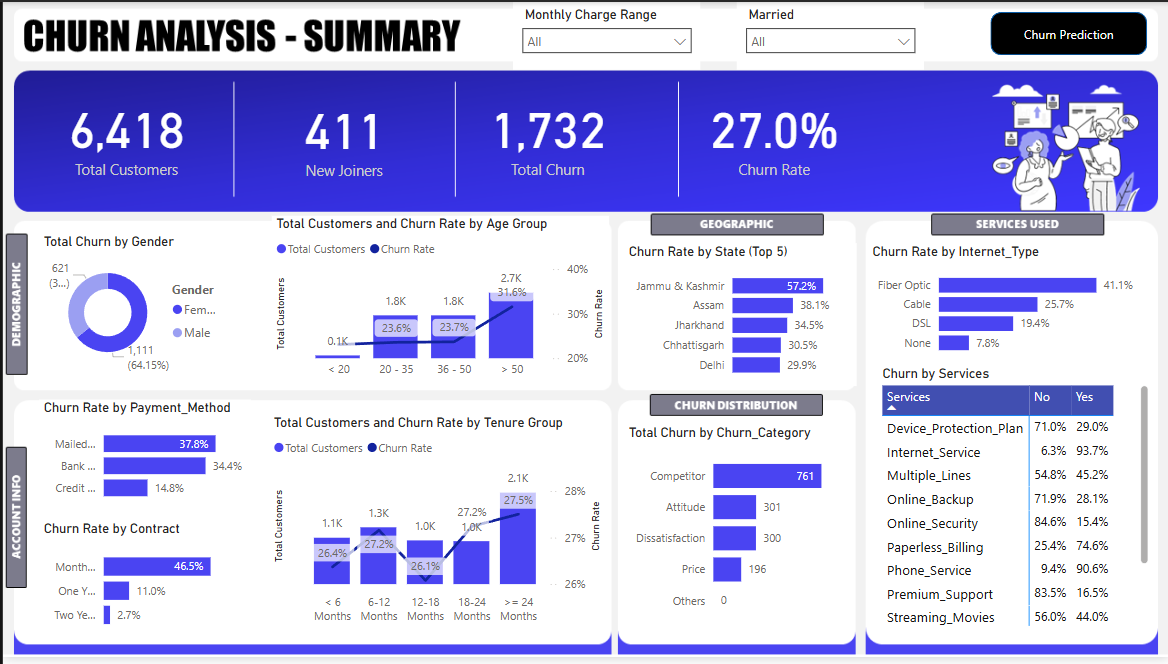

Layout of this report page (visuals, bound fields, positions):
{"tool":"powerbi","page":{"name":"Summary","canvas":[1280,720],"ordinal":0},"visuals":[{"type":"card","fields":{"Values":["tbl_Measures.Total Customers"]},"box":[0,74.1,271.7,141.3],"z":0},{"type":"card","fields":{"Values":["tbl_Measures.Total Churn"]},"box":[495.4,81,205.8,127.6],"z":1000},{"type":"card","fields":{"Values":["tbl_Measures.New Joiners"]},"box":[271.7,82.3,205.8,127.6],"z":2000},{"type":"card","fields":{"Values":["tbl_Measures.Churn Rate"]},"box":[743.7,81,205.8,127.6],"z":3000},{"type":"donutChart","fields":{"Y":["tbl_Measures.Total Churn"],"Series":["prod_Churn.Gender"]},"box":[39.8,253.9,216.8,157.8],"z":4000},{"type":"lineStackedColumnComboChart","fields":{"Category":["mapping_AgeGrp.Age Group"],"Y":["tbl_Measures.Total Customers"],"Y2":["tbl_Measures.Churn Rate"]},"box":[295,234.6,370.5,186.6],"z":5000},{"type":"clusteredBarChart","fields":{"Category":["prod_Churn.Payment_Method"],"Y":["tbl_Measures.Churn Rate"]},"box":[39.8,436.4,231.9,122.1],"z":6000},{"type":"clusteredBarChart","fields":{"Category":["prod_Churn.Contract"],"Y":["tbl_Measures.Churn Rate"]},"box":[39.8,569.5,231.9,130.4],"z":7000},{"type":"lineStackedColumnComboChart","fields":{"Category":["mapping_TenureGrp.Tenure Group "],"Y":["tbl_Measures.Total Customers"],"Y2":["tbl_Measures.Churn Rate"]},"box":[292.3,452.8,370.5,237.4],"z":8000},{"type":"clusteredBarChart","title":"Churn Rate by State (Top 5)","fields":{"Category":["prod_Churn.State"],"Y":["tbl_Measures.Churn Rate"]},"box":[682,264.8,255.2,156.4],"z":9000},{"type":"clusteredBarChart","fields":{"Category":["prod_Churn.Churn_Category"],"Y":["tbl_Measures.Total Churn"]},"box":[682,463.8,245.6,226.4],"z":10000},{"type":"clusteredBarChart","fields":{"Category":["prod_Churn.Internet_Type"],"Y":["tbl_Measures.Churn Rate"]},"box":[949.6,264.8,301.9,131.7],"z":11000},{"type":"pivotTable","title":"Churn by Services","fields":{"Rows":["prod_Services.Services"],"Columns":["prod_Services.Status"],"Values":["Sum(prod_Services.Churn Status)"]},"box":[960.6,399.3,301.9,290.9],"z":12000},{"type":"slicer","fields":{"Values":["prod_Churn.Monthly Charge Status"]},"box":[559.9,0,205.8,74.1],"z":13000},{"type":"slicer","fields":{"Values":["prod_Churn.Married"]},"box":[805.5,0,205.8,74.1],"z":14000},{"type":"shape","box":[1084,10.8,171.9,47.4],"z":15000}]}

Visuals, with their boxes in screenshot pixels (x1, y1, x2, y2), scaled from the page's 1280x720 canvas onto the 1168x664 screenshot:
card - tbl_Measures.Total Customers: (0, 68, 248, 199)
card - tbl_Measures.Total Churn: (452, 75, 640, 192)
card - tbl_Measures.New Joiners: (248, 76, 436, 194)
card - tbl_Measures.Churn Rate: (679, 75, 866, 192)
donutChart - tbl_Measures.Total Churn x prod_Churn.Gender: (36, 234, 234, 380)
lineStackedColumnComboChart - mapping_AgeGrp.Age Group x tbl_Measures.Total Customers: (269, 216, 607, 388)
clusteredBarChart - prod_Churn.Payment_Method x tbl_Measures.Churn Rate: (36, 402, 248, 515)
clusteredBarChart - prod_Churn.Contract x tbl_Measures.Churn Rate: (36, 525, 248, 645)
lineStackedColumnComboChart - mapping_TenureGrp.Tenure Group  x tbl_Measures.Total Customers: (267, 418, 605, 637)
"Churn Rate by State (Top 5)" clusteredBarChart: (622, 244, 855, 388)
clusteredBarChart - prod_Churn.Churn_Category x tbl_Measures.Total Churn: (622, 428, 846, 637)
clusteredBarChart - prod_Churn.Internet_Type x tbl_Measures.Churn Rate: (867, 244, 1142, 366)
"Churn by Services" pivotTable: (877, 368, 1152, 637)
slicer - prod_Churn.Monthly Charge Status: (511, 0, 699, 68)
slicer - prod_Churn.Married: (735, 0, 923, 68)
shape: (989, 10, 1146, 54)
